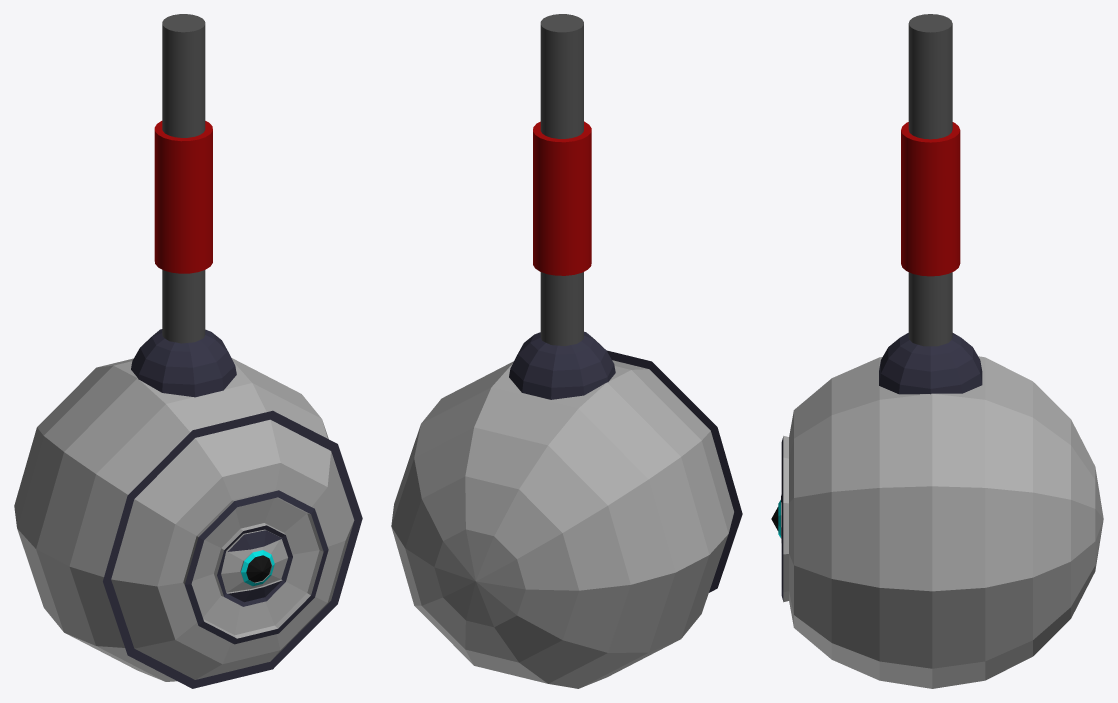
3 renders of one model, left to right at view 1: azimuth 30°, elevation 25°; view 2: azimuth 150°, elevation 25°; view 3: azimuth 270°, elevation 25°, orthographic.
Visible parts, largest first — view 1: AI_head, handle; view 2: AI_head, handle; view 3: AI_head, handle.
Boxes of the visible parts, x1,y1,x2,y2 form: AI_head: (14, 329, 362, 688); handle: (154, 14, 212, 343); AI_head: (391, 331, 742, 688); handle: (533, 14, 591, 346); AI_head: (771, 333, 1103, 688); handle: (901, 14, 960, 346).
Bounding box in the file's own units: 36.71 × 76.07 × 35.62.
